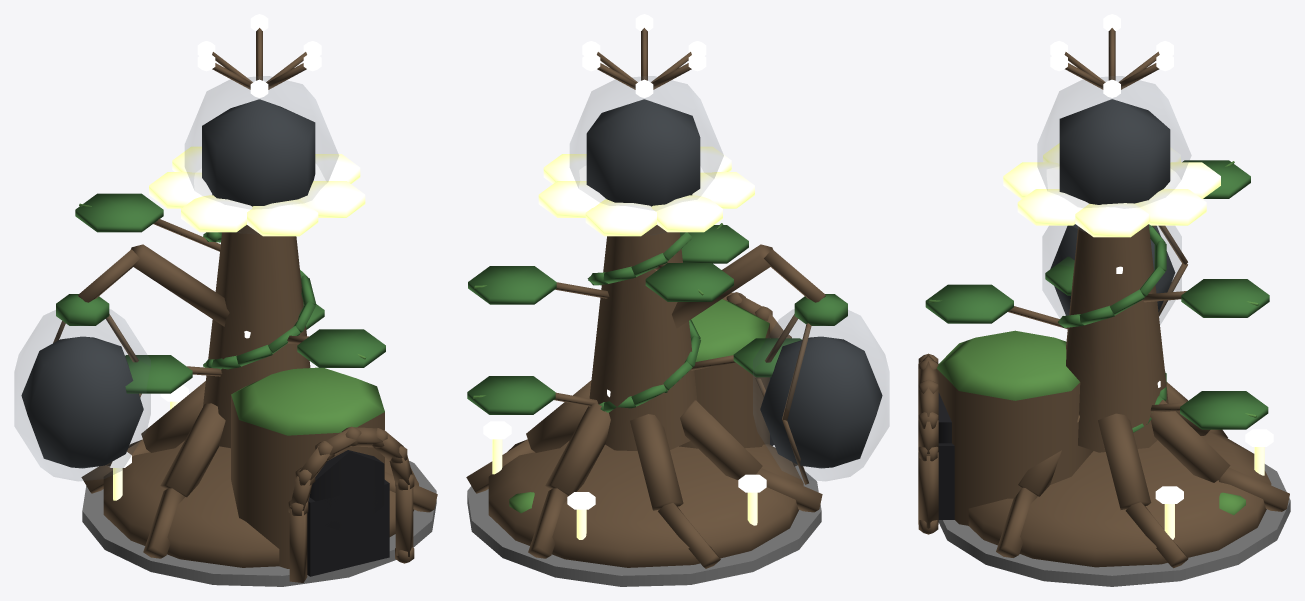
Rendered from BLOOM_Vat_T1.glb.
3 views of the same model, side by side, from view 1: azimuth 30°, elevation 25°; view 2: azimuth 150°, elevation 25°; view 3: azimuth 270°, elevation 25° (orthographic).
Visible parts, largest first — view 1: BLOOM_Vat_T1; view 2: BLOOM_Vat_T1; view 3: BLOOM_Vat_T1.
Boxes of the visible parts, left/top/right/bottom form: BLOOM_Vat_T1: left=14, top=14, right=437, bottom=586; BLOOM_Vat_T1: left=466, top=14, right=889, bottom=586; BLOOM_Vat_T1: left=918, top=14, right=1290, bottom=586.
Bounding box in the file's own units: 4.4 × 5.38 × 3.65.
